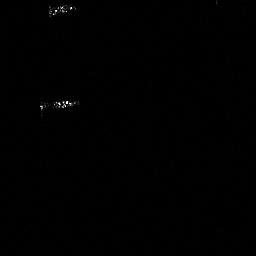ship: (36, 95, 80, 116), (45, 2, 78, 18)
